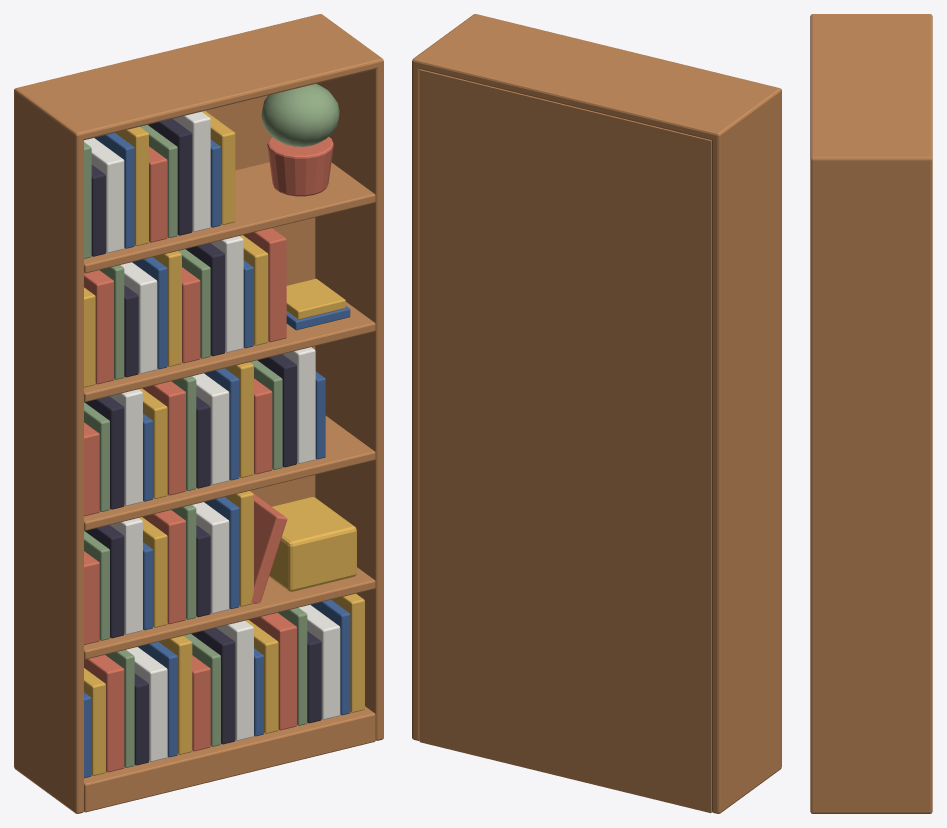
File: hh_cat_tall_bookcase.glb
3 renders of one model, left to right at view 1: azimuth 30°, elevation 25°; view 2: azimuth 150°, elevation 25°; view 3: azimuth 270°, elevation 25°, orthographic. The views are drawn at different scales.
Parts seen in each view (by area): view 1: side, side.001, top, plinth, shelf.003, storage_box, back, shelf.001, shelf, shelf.002, plant, pot (+77 smaller); view 2: back, side, top, side.001; view 3: side.001, top.
Part boxes in pixels (bbox=[...]): side: bbox=[14, 89, 83, 813]; side.001: bbox=[315, 60, 383, 740]; top: bbox=[14, 14, 383, 140]; plinth: bbox=[84, 706, 375, 812]; shelf.003: bbox=[84, 162, 375, 273]; storage_box: bbox=[269, 497, 356, 591]; back: bbox=[205, 95, 315, 506]; shelf.001: bbox=[84, 416, 375, 530]; shelf: bbox=[84, 567, 375, 659]; shelf.002: bbox=[84, 301, 375, 401]; plant: bbox=[261, 83, 339, 146]; pot: bbox=[267, 137, 333, 196]; back: bbox=[419, 69, 711, 813]; side: bbox=[712, 90, 781, 813]; top: bbox=[412, 14, 781, 140]; side.001: bbox=[412, 60, 420, 740]; side.001: bbox=[810, 157, 932, 813]; top: bbox=[810, 14, 932, 164].
Bounding box in the file's own units: 0.9 × 1.9 × 0.32.
